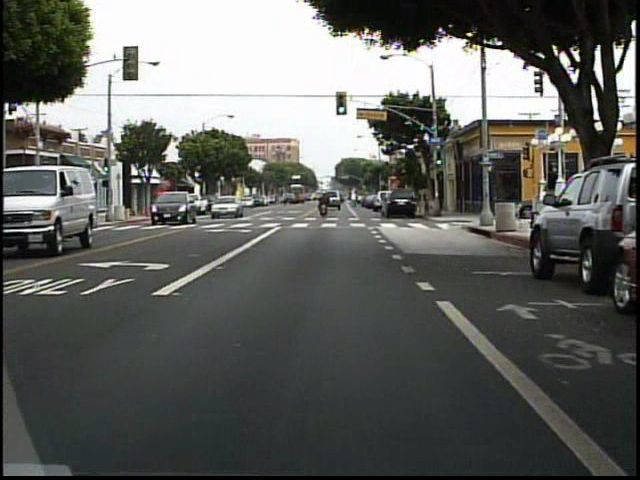person: (64, 192, 84, 221), (318, 190, 331, 219), (75, 191, 86, 222)
